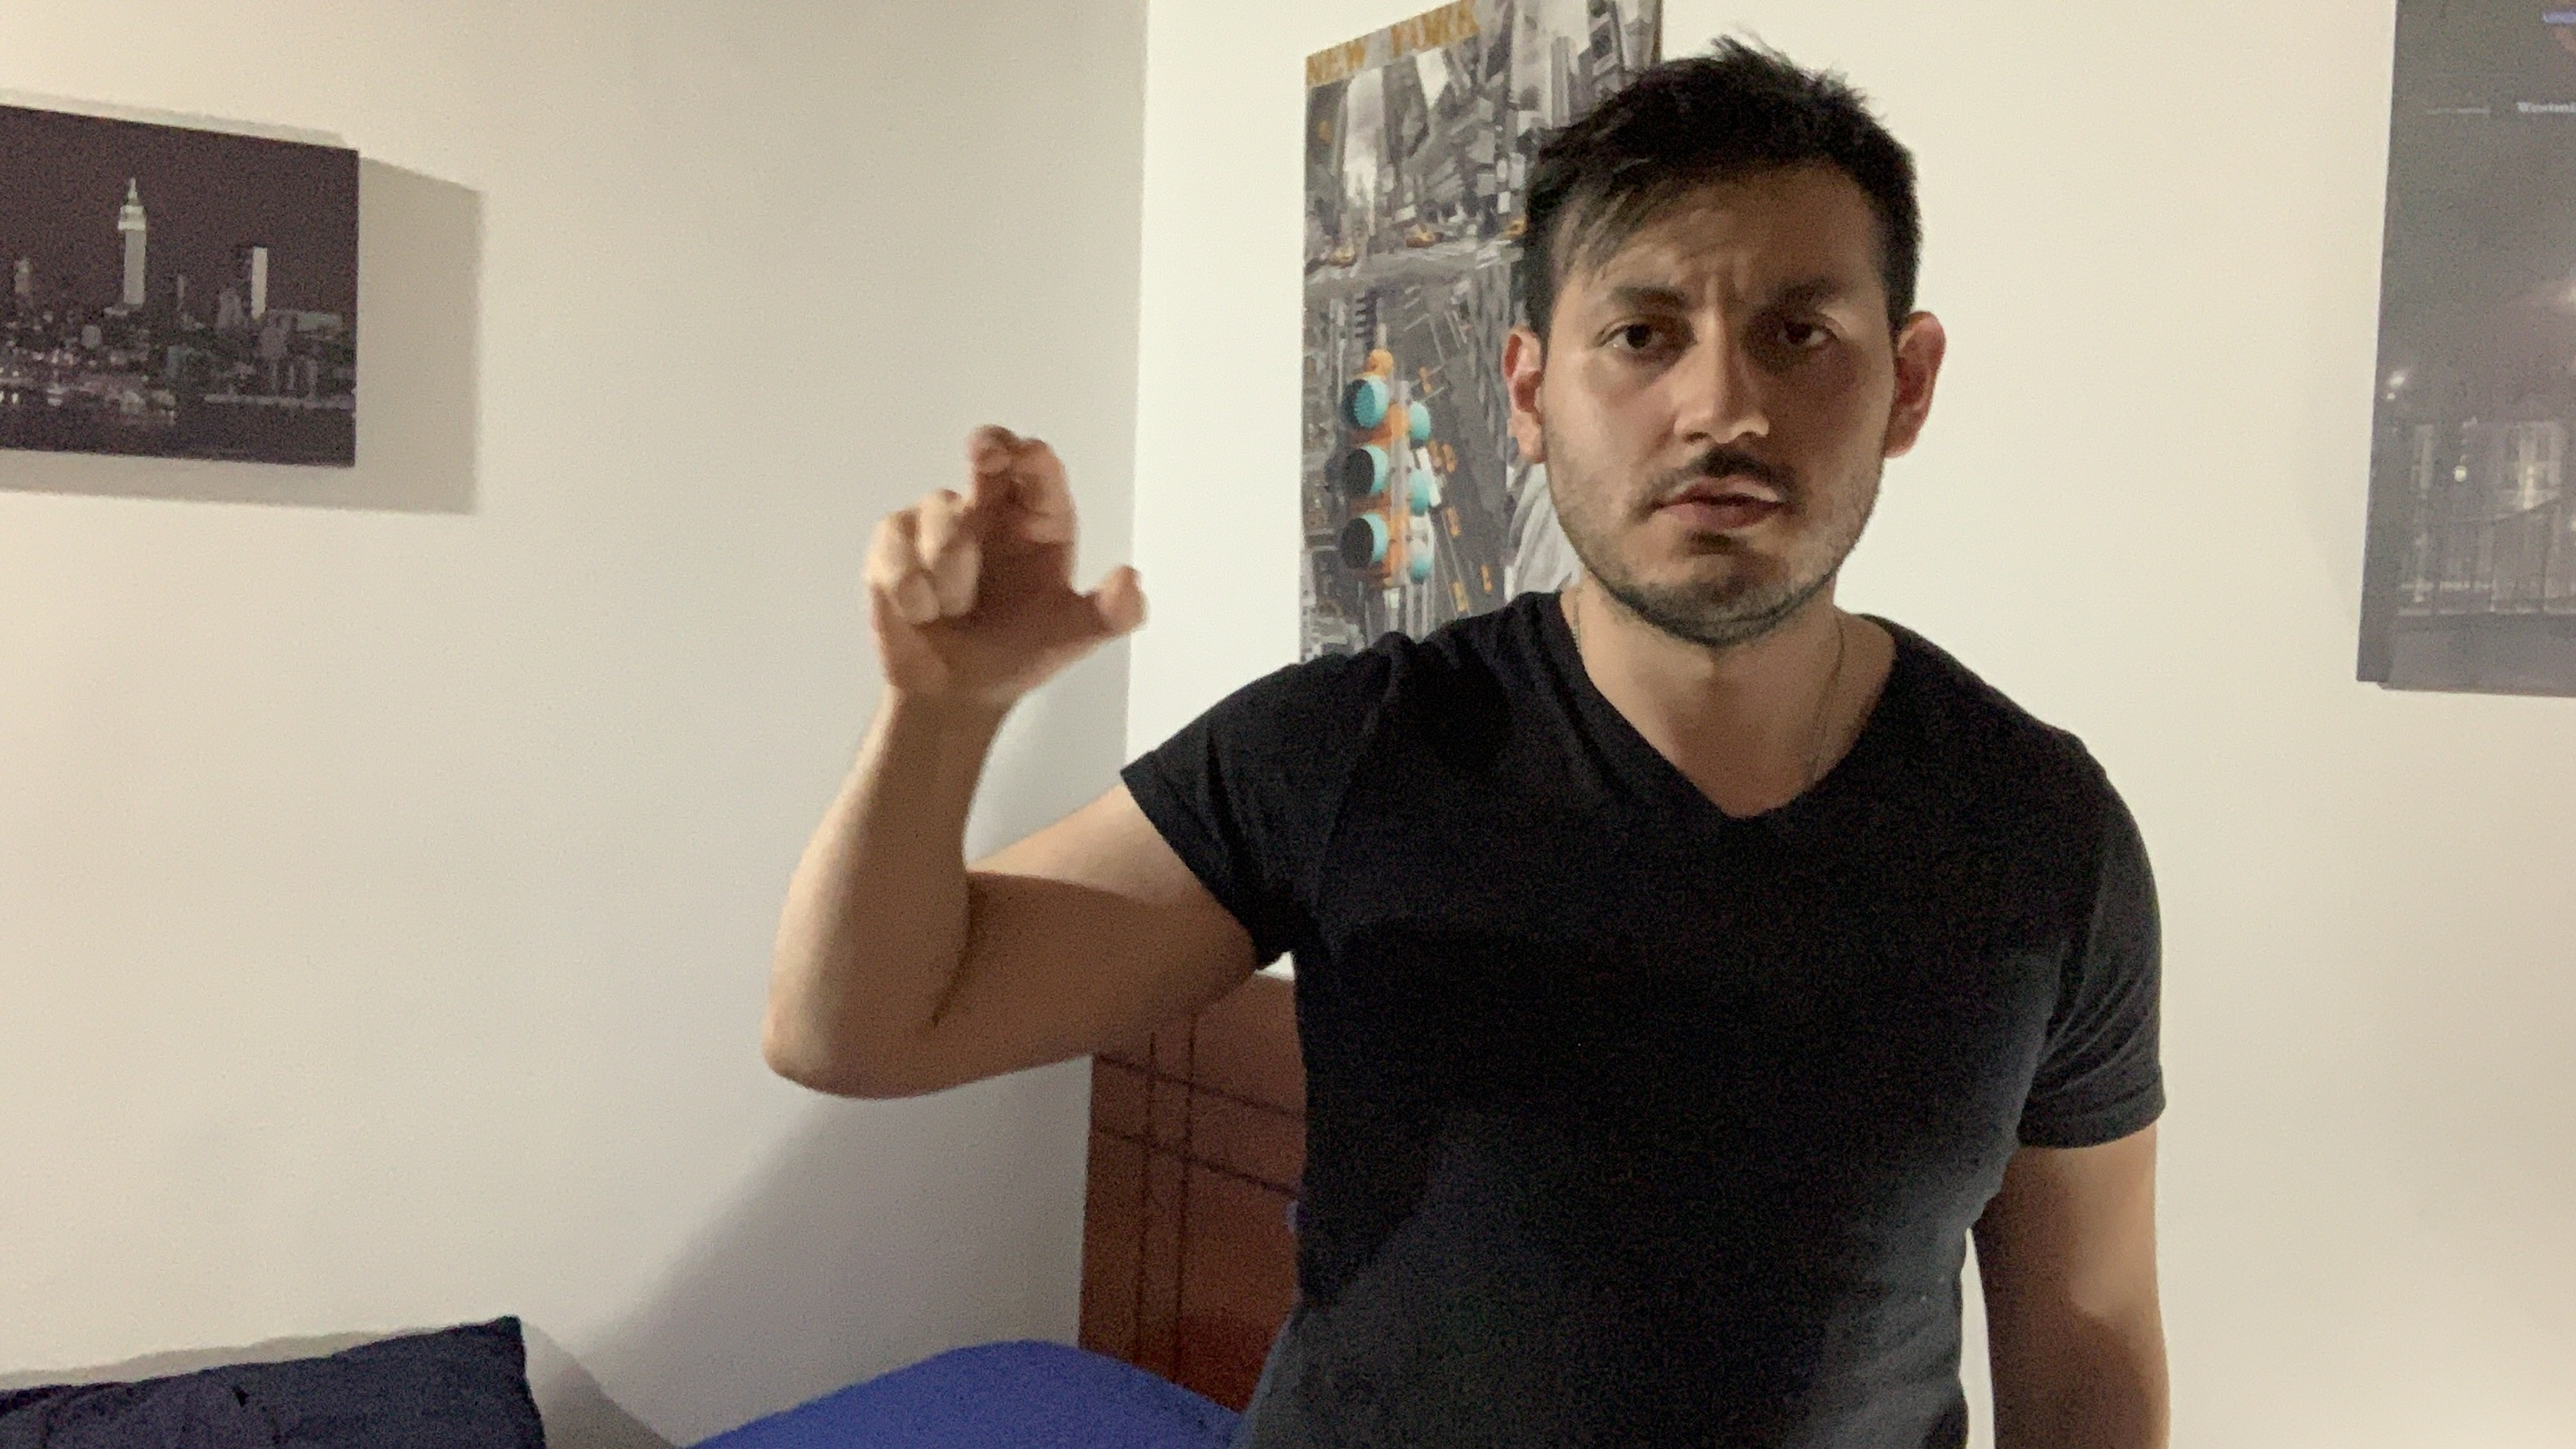No: (851, 421, 1159, 718)
